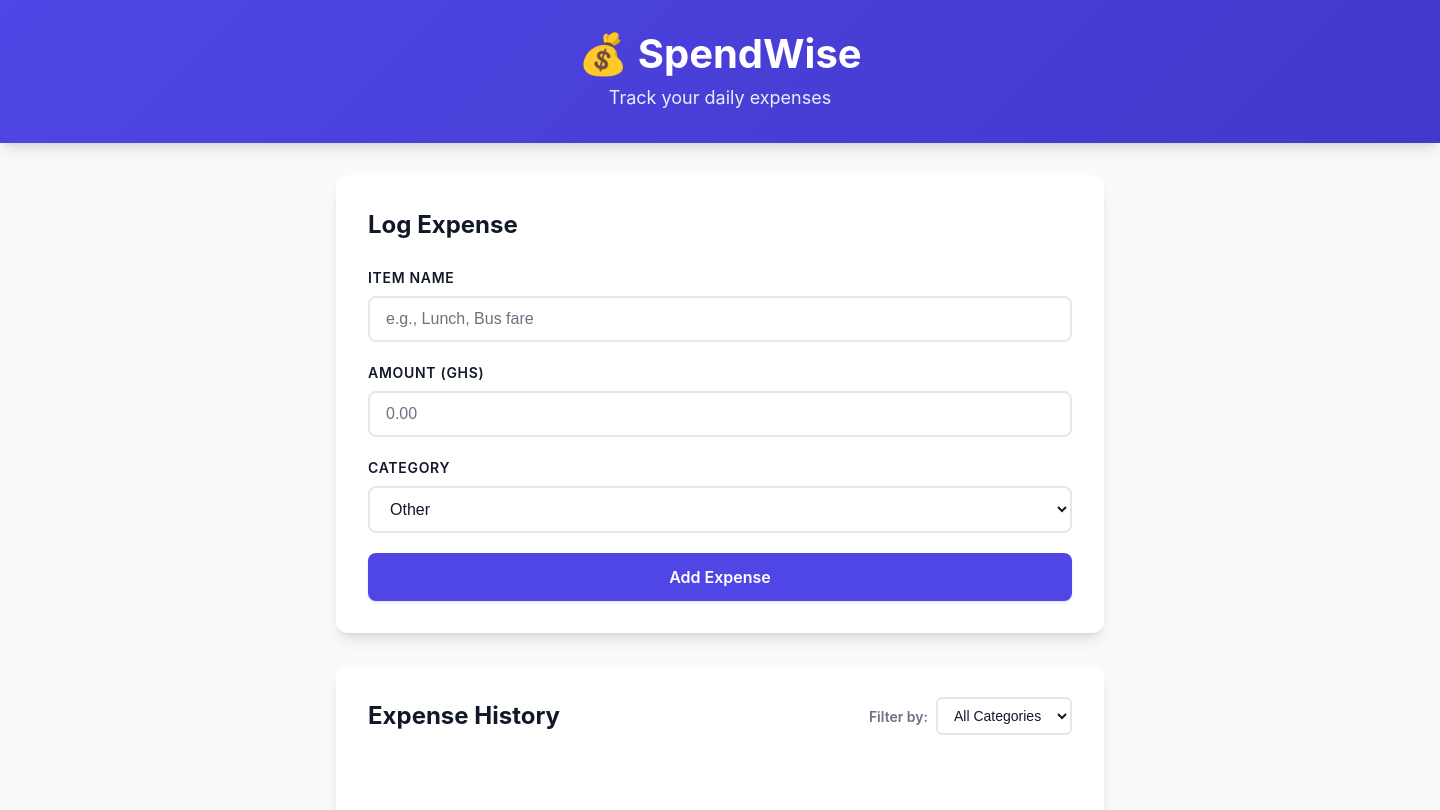
Test: User Story 1: Log Expense - Frontend UI › Acceptance Criteria #3: Validation prevents empty names and negative costs › should show error for negative amount
The image size is (1440, 810).
Type "Invalid expense" into the field labelled "Item Name" at (720,319), box [368,296,1072,342]
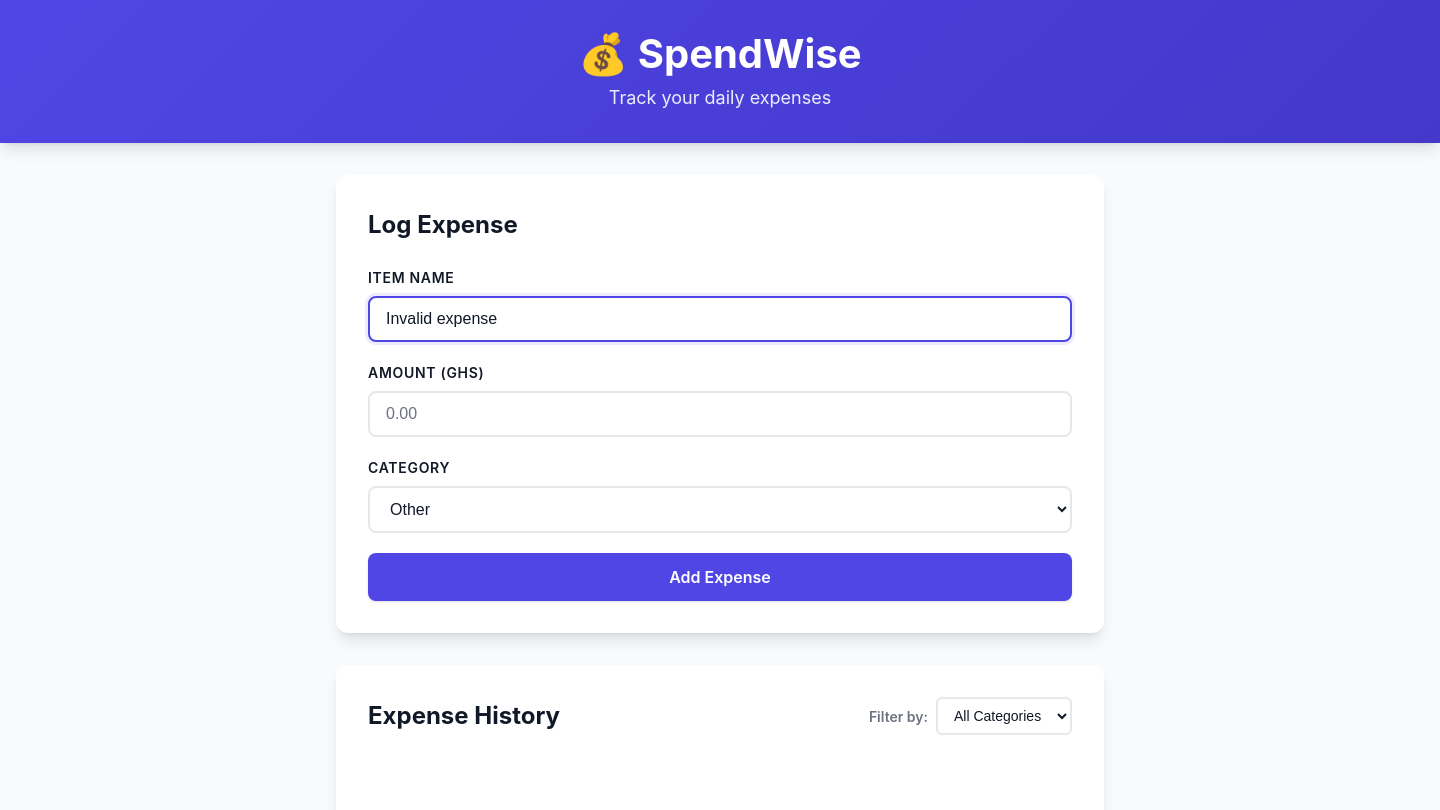
Type "-5" into the number field labelled "Amount (GHS)" at (720,414), box [368,391,1072,437]
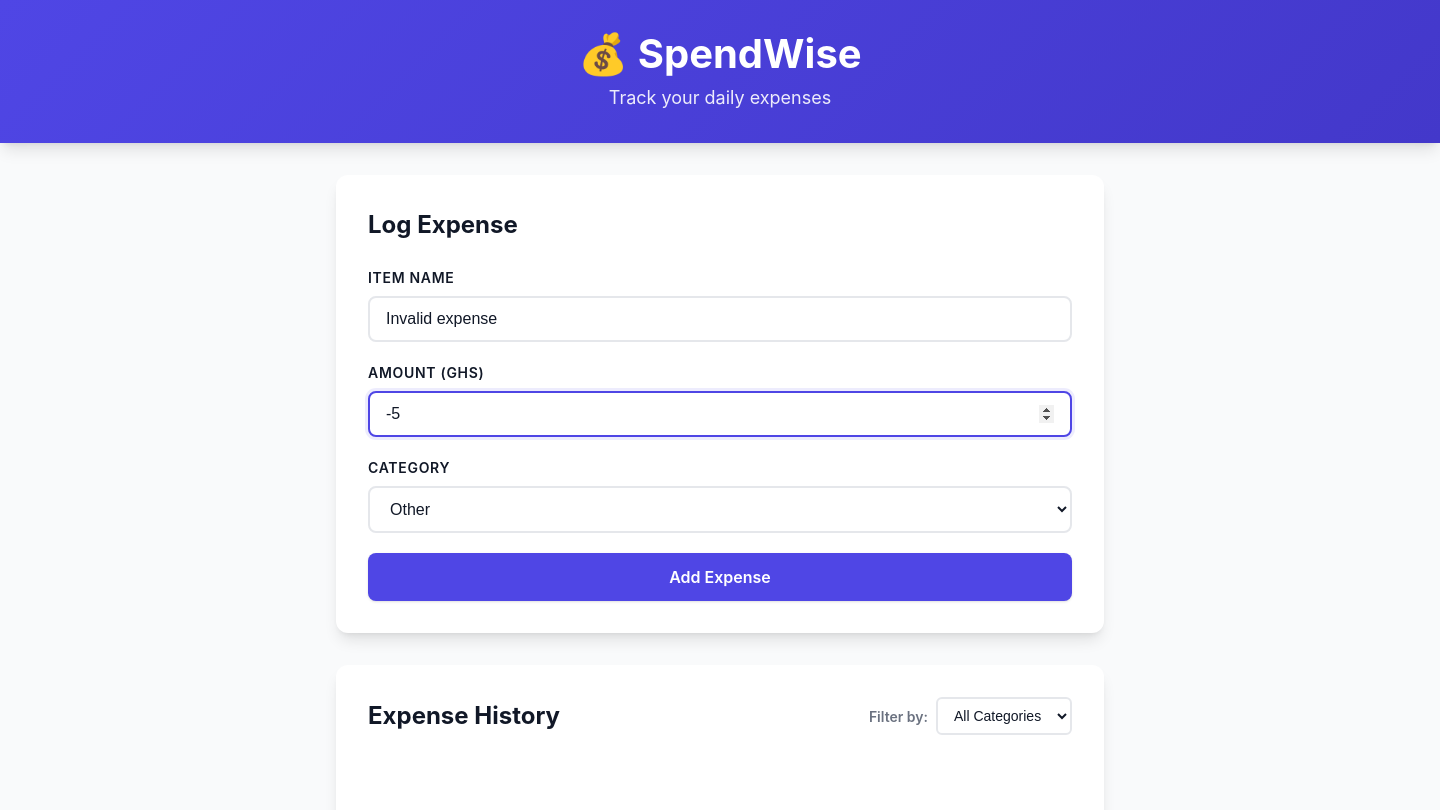
Click the button "Add Expense" at (720,577), box [368,553,1072,601]
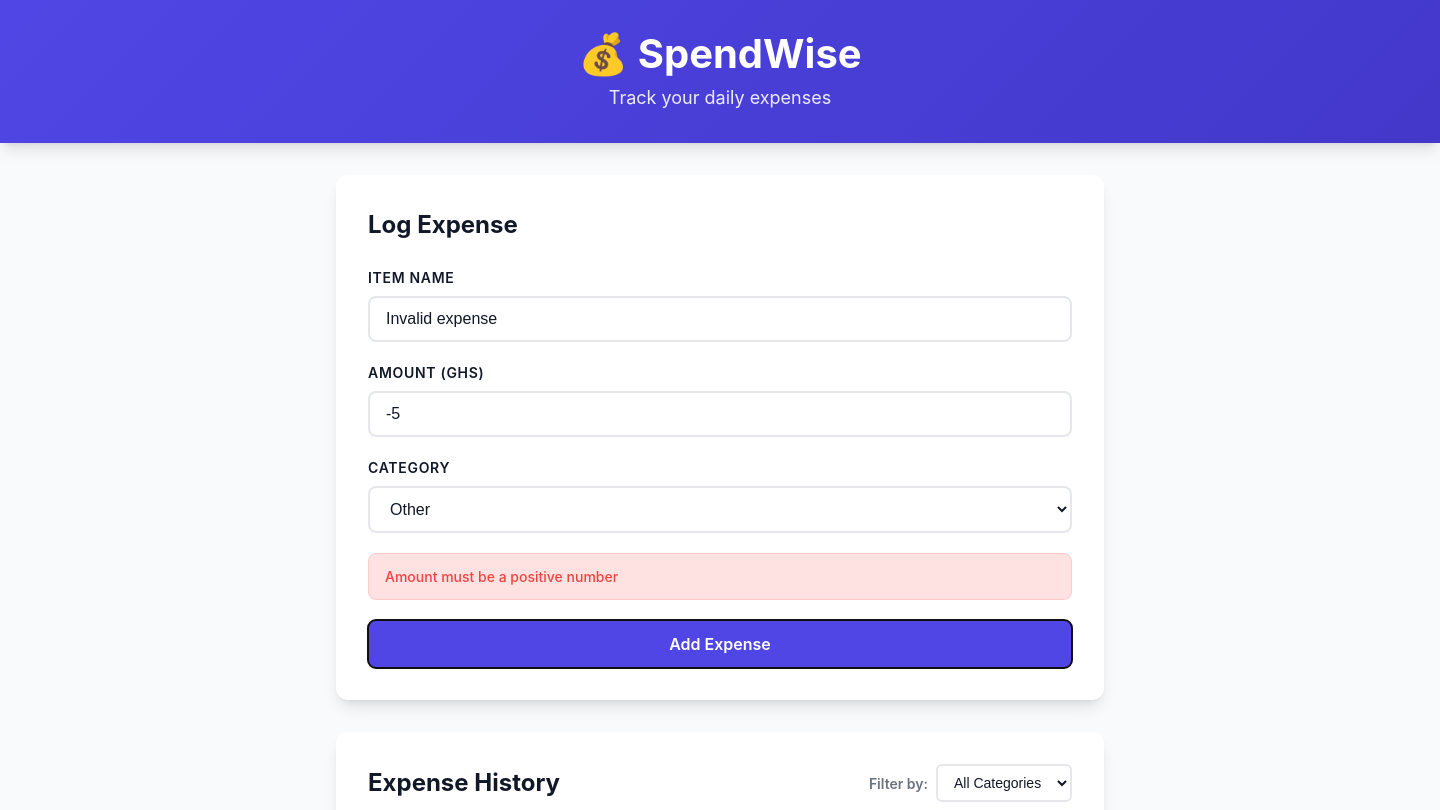
Result: the text "Amount must be a positive number" is shown at [368,553,1072,600]
